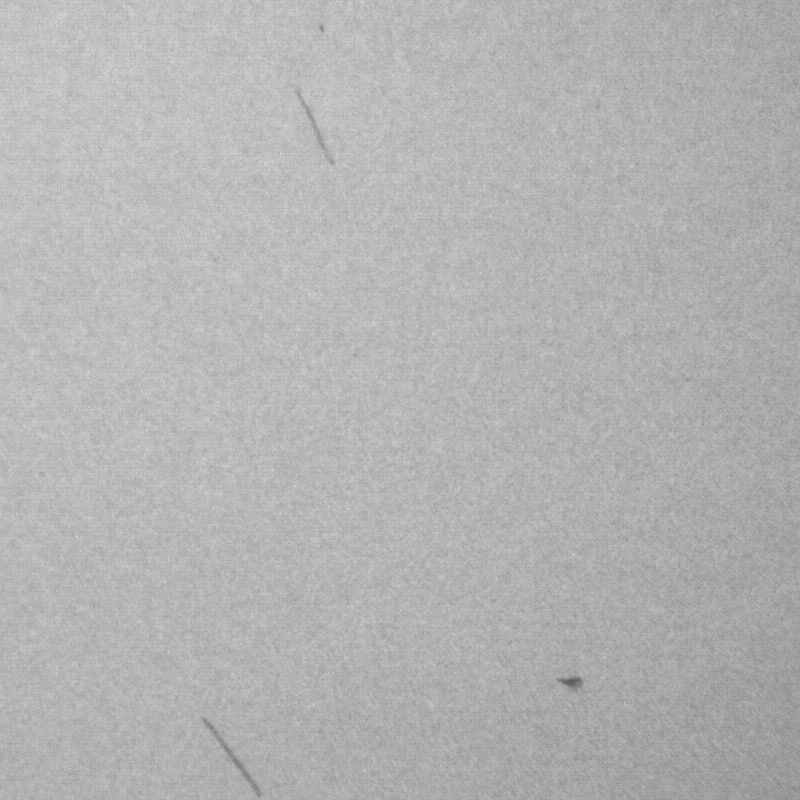defect: (200, 716, 264, 795), (292, 87, 341, 165), (548, 671, 602, 698)
